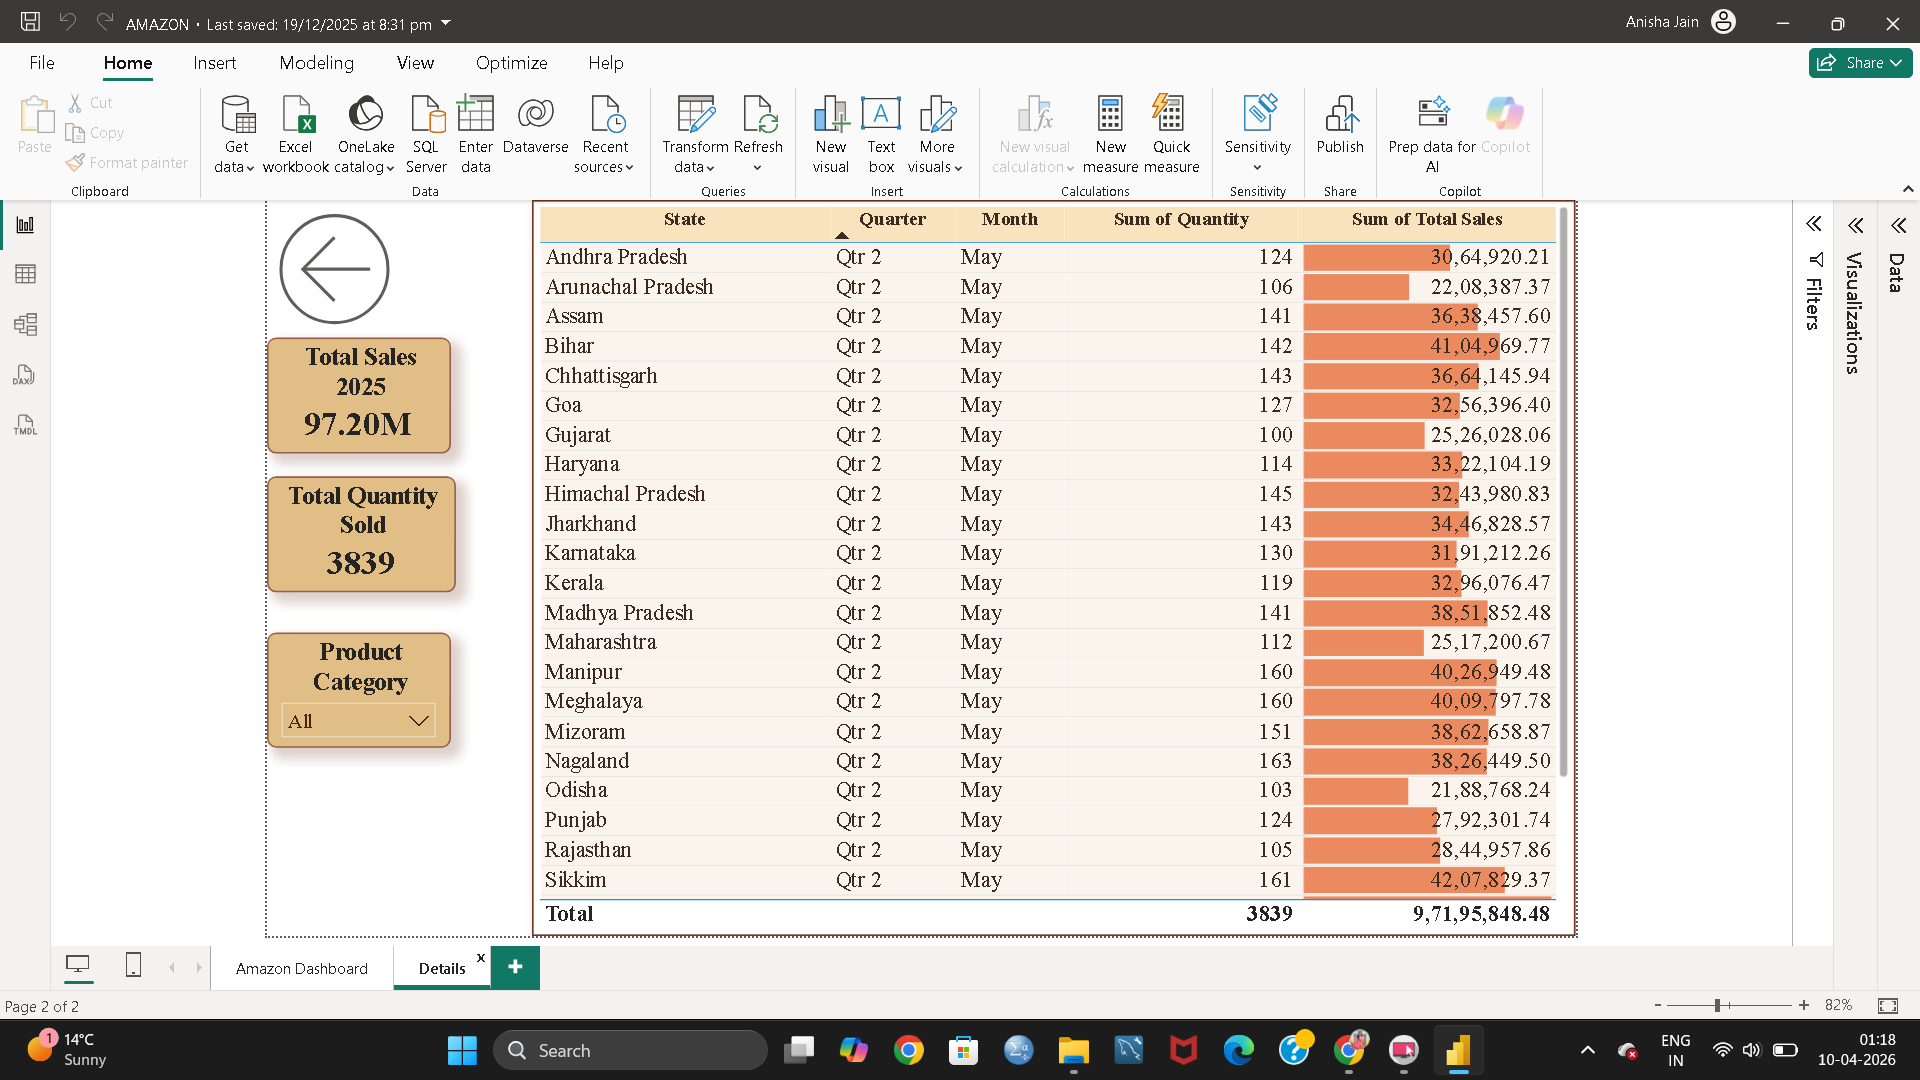

Layout of this report page (visuals, bound fields, positions):
{"tool":"powerbi","page":{"name":"Details","canvas":[1280,720],"ordinal":1},"visuals":[{"type":"tableEx","fields":{"Values":["Amazon 2025.State","Amazon 2025.Date.Variation.Date Hierarchy.Quarter","Amazon 2025.Date.Variation.Date Hierarchy.Month","Sum(Amazon 2025.Quantity)","Sum(Amazon 2025.Total Sales)"]},"box":[259.2,0,1021.1,720.2],"z":0},{"type":"actionButton","box":[0,0,132.1,134.5],"z":1000},{"type":"card","title":"Total Sales 2025","fields":{"Values":["DAX.Total Sales"]},"box":[0,134.5,179.8,113.7],"z":2000},{"type":"card","title":"Total Quantity Sold","fields":{"Values":["DAX.Total Quantity Sold"]},"box":[0,270.2,184.6,113.7],"z":3000},{"type":"slicer","title":"Product Category","fields":{"Values":["Amazon 2025.Product Category"]},"box":[0,423.1,179.8,112.5],"z":4000}]}

Visuals, with their boxes on the page's 1280x720 design canvas (x1, y1, x2, y2). These are canvas units, not pixel positions in the 1920x1080 screenshot, which may show the page scaled, cropped or inside an application window:
tableEx - Amazon 2025.State x Amazon 2025.Date.Variation.Date Hierarchy.Quarter: {"left": 259, "top": 0, "right": 1280, "bottom": 720}
actionButton: {"left": 0, "top": 0, "right": 132, "bottom": 134}
"Total Sales 2025" card: {"left": 0, "top": 134, "right": 180, "bottom": 248}
"Total Quantity Sold" card: {"left": 0, "top": 270, "right": 185, "bottom": 384}
"Product Category" slicer: {"left": 0, "top": 423, "right": 180, "bottom": 536}
